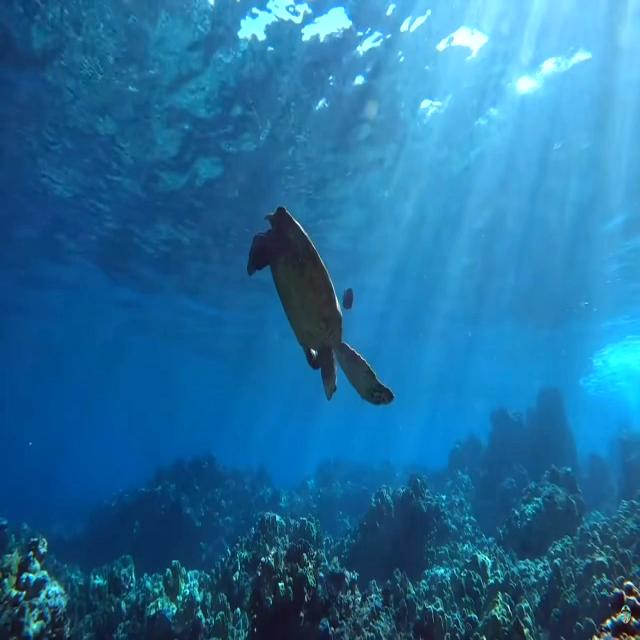Sea turtle: (248, 205, 398, 410)
